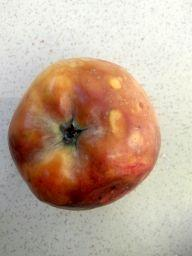Apple Rotten: (9, 57, 161, 211)
